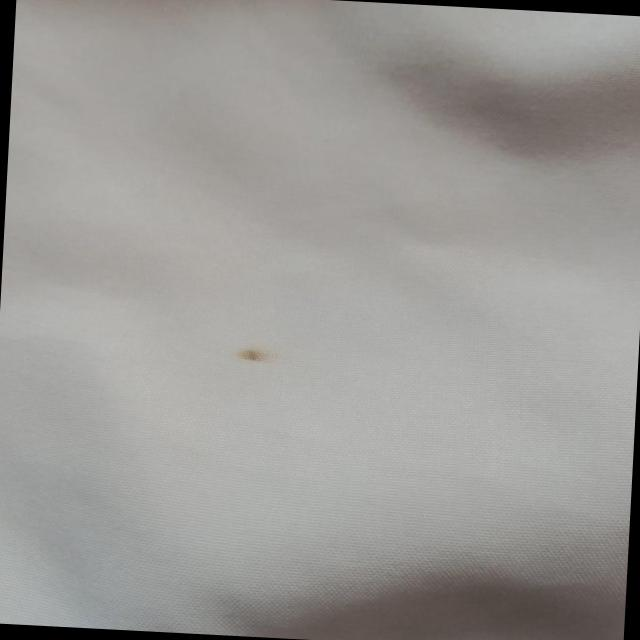stain: (220, 334, 286, 372)
